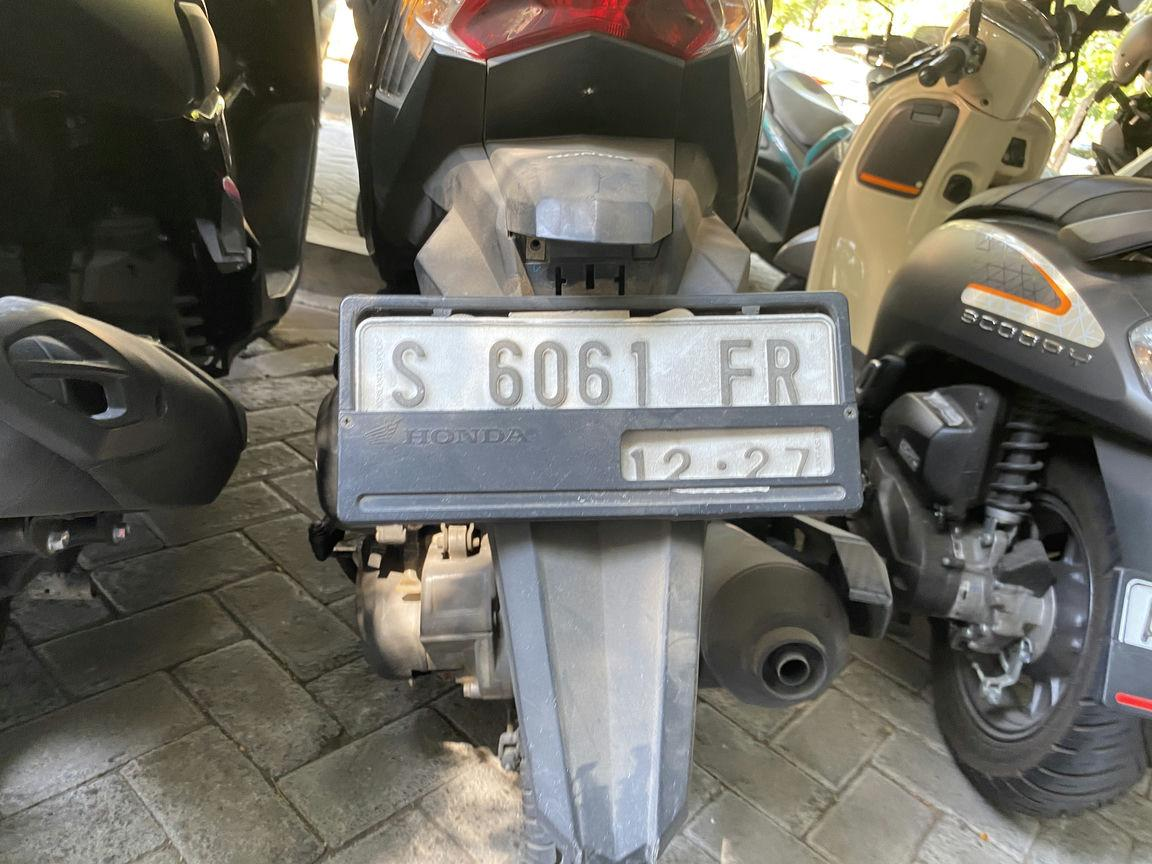plat: (338, 292, 862, 526)
